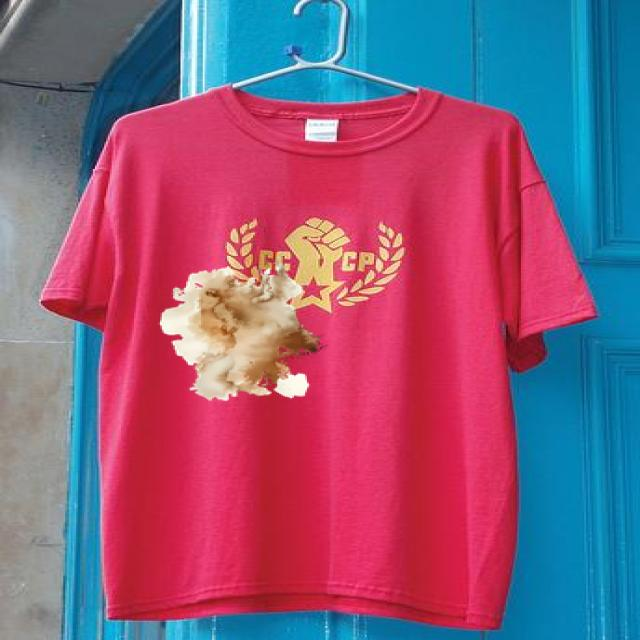stain: (162, 267, 321, 405)
